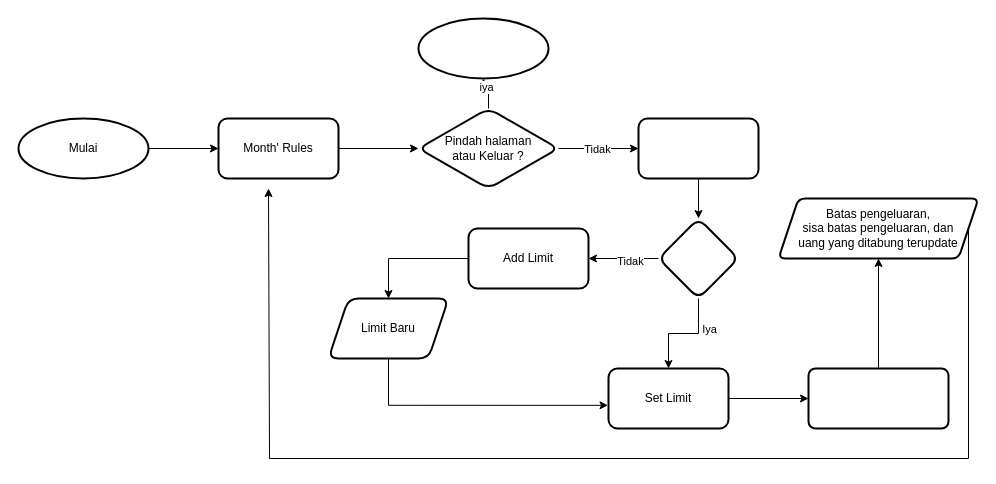
Image size: 996x484. Some labels were removed from this diagram. Here are the shapes that lost their labels. From the top down, the centre of each, then its label:
(483,48): Selesai
(698,148): Pilih Limit
(698,258): Limit Ada?
(878,398): Perhitungan Limit
